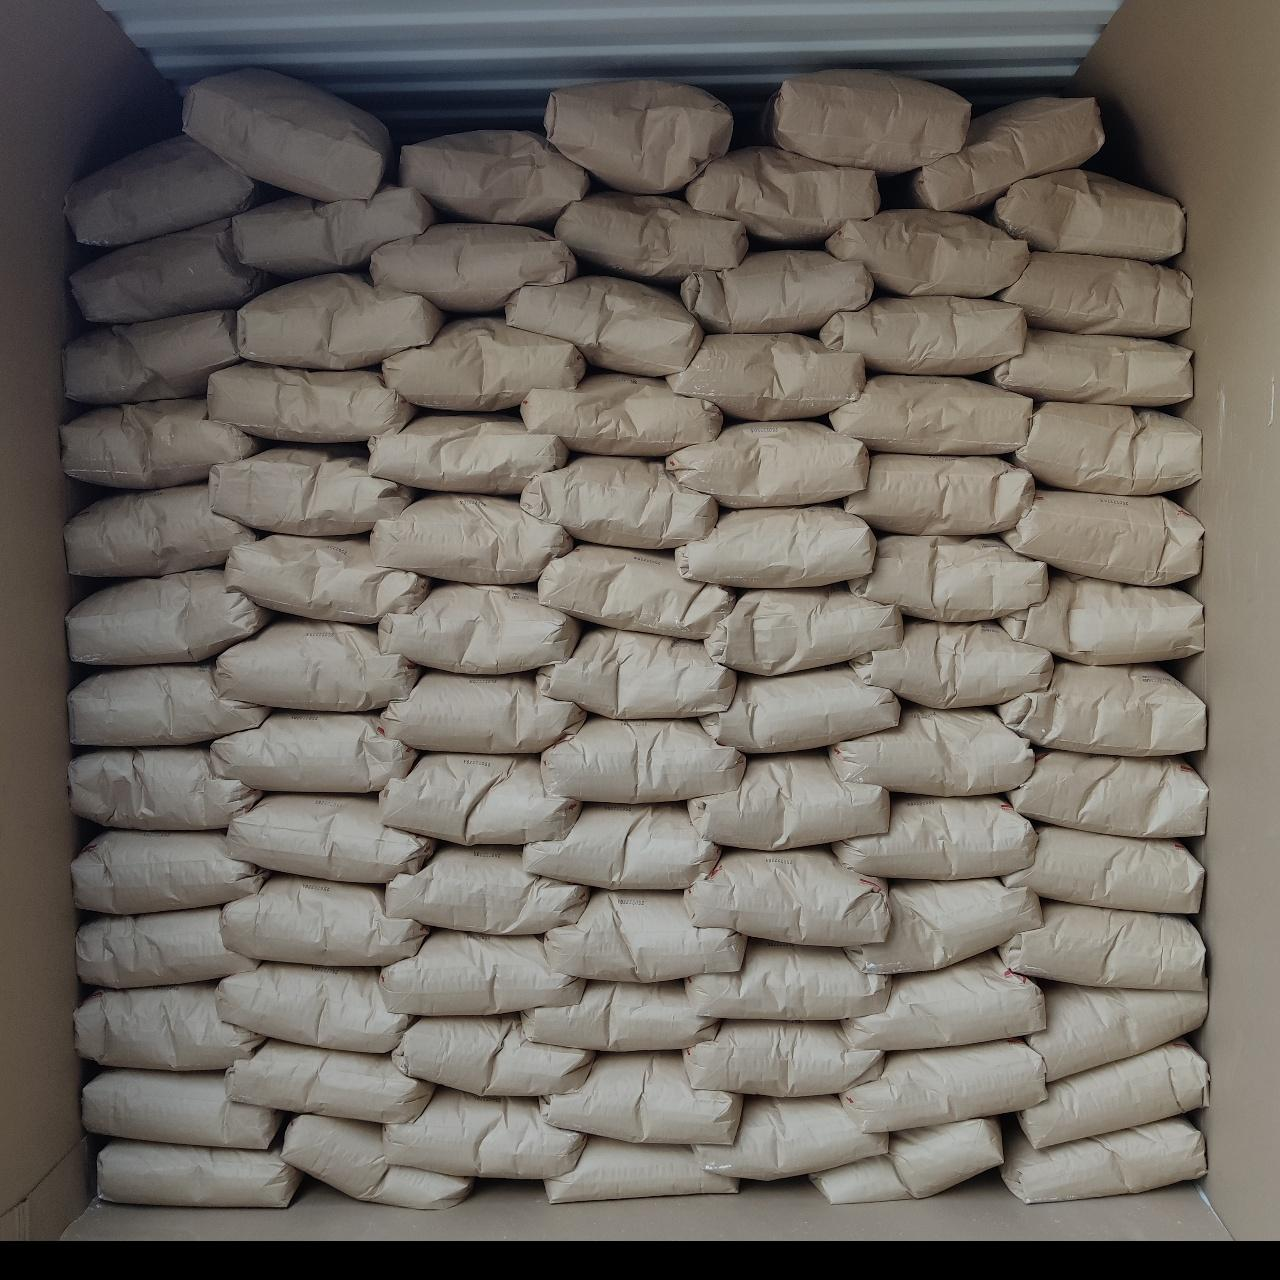sack: (184, 70, 392, 198), (898, 98, 1102, 212), (68, 136, 270, 246), (758, 70, 968, 172), (546, 80, 731, 190), (72, 220, 272, 318), (1020, 1040, 1206, 1144), (238, 272, 444, 366), (506, 275, 702, 374), (685, 147, 878, 246), (232, 184, 436, 278), (686, 847, 886, 942), (216, 618, 418, 710), (68, 570, 270, 662), (690, 753, 886, 846), (844, 954, 1044, 1046), (842, 1040, 1044, 1130), (1005, 490, 1201, 583), (210, 445, 414, 535), (998, 662, 1204, 750), (538, 626, 734, 719), (546, 890, 742, 982), (229, 794, 434, 881), (522, 456, 716, 549), (1002, 572, 1201, 662), (224, 874, 425, 964), (1000, 903, 1204, 990), (540, 544, 731, 638), (384, 318, 583, 408), (380, 754, 578, 844), (542, 1051, 740, 1142), (830, 704, 1030, 794), (372, 493, 572, 583), (850, 878, 1039, 972), (388, 846, 588, 934), (229, 536, 430, 622), (372, 224, 576, 309), (384, 1088, 583, 1176), (380, 584, 580, 670), (554, 192, 745, 282), (990, 170, 1182, 260), (62, 400, 260, 486), (402, 132, 590, 224), (1012, 402, 1198, 493), (1008, 750, 1206, 836), (282, 1116, 470, 1206), (668, 422, 869, 506), (828, 210, 1028, 294), (1028, 983, 1206, 1078), (855, 620, 1051, 706), (68, 484, 254, 574), (384, 930, 583, 1014), (835, 794, 1032, 878), (229, 1040, 430, 1122), (1002, 1118, 1204, 1200), (850, 536, 1046, 620), (702, 666, 898, 750), (64, 309, 238, 404), (522, 372, 722, 454), (706, 586, 900, 670), (1005, 826, 1201, 910), (668, 334, 862, 418), (218, 964, 411, 1048), (76, 983, 263, 1070), (70, 745, 260, 830), (207, 365, 414, 442), (380, 672, 583, 750), (821, 297, 1026, 374), (212, 712, 414, 790), (544, 719, 742, 798), (998, 252, 1190, 334), (526, 804, 719, 886), (678, 506, 874, 586), (394, 1014, 590, 1094), (696, 1096, 886, 1178), (70, 663, 268, 742), (830, 376, 1030, 454), (370, 414, 566, 492), (680, 250, 870, 331), (688, 940, 886, 1017), (84, 1070, 282, 1148), (74, 830, 266, 910), (844, 454, 1032, 535), (812, 1121, 1000, 1201), (990, 331, 1190, 406), (76, 906, 254, 986), (685, 1022, 881, 1094), (98, 1141, 302, 1206), (524, 982, 719, 1050), (546, 1138, 736, 1201)
